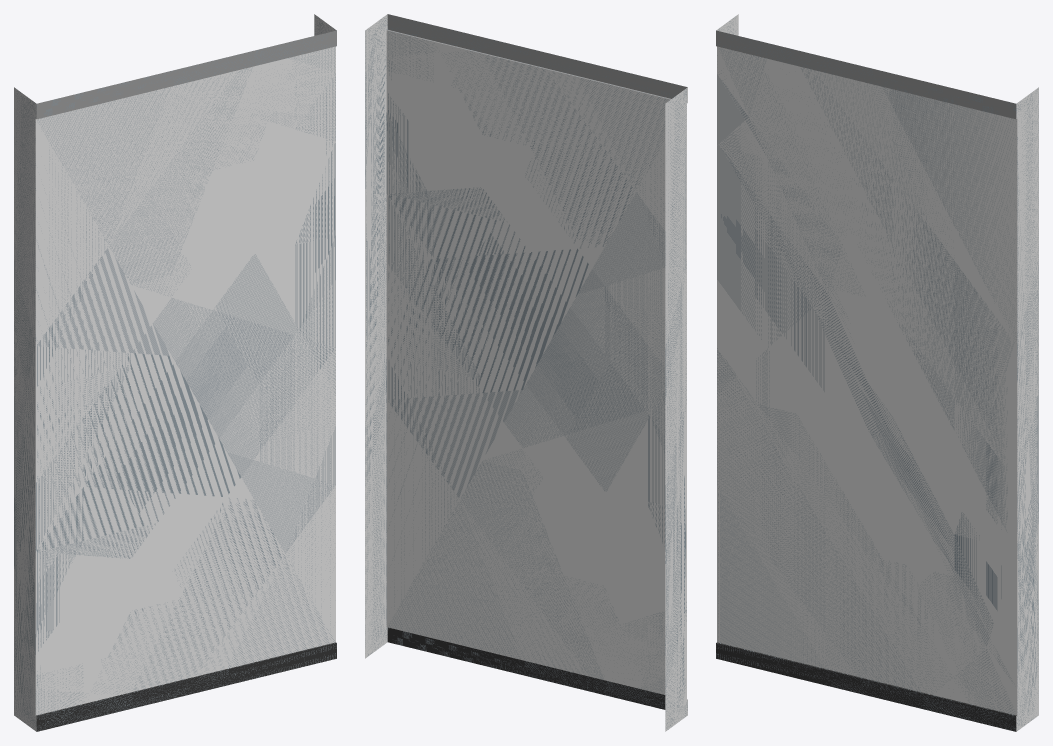
Rendered from BlockWall_os_plinth_2x4x025.dae.
The picture shows the model from 3 angles, left to right: view 1: azimuth 30°, elevation 25°; view 2: azimuth 150°, elevation 25°; view 3: azimuth 330°, elevation 25°; orthographic projection.
Visible parts, largest first — view 1: group_0 (×3); view 2: group_0 (×3); view 3: group_0 (×3).
Part boxes in pixels (<box>): group_0 (×3): <box>14,14,336,731</box>; group_0 (×3): <box>365,14,687,731</box>; group_0 (×3): <box>716,14,1038,731</box>.
Size of the model in its own units: 78.74 by 10.24 by 157.
